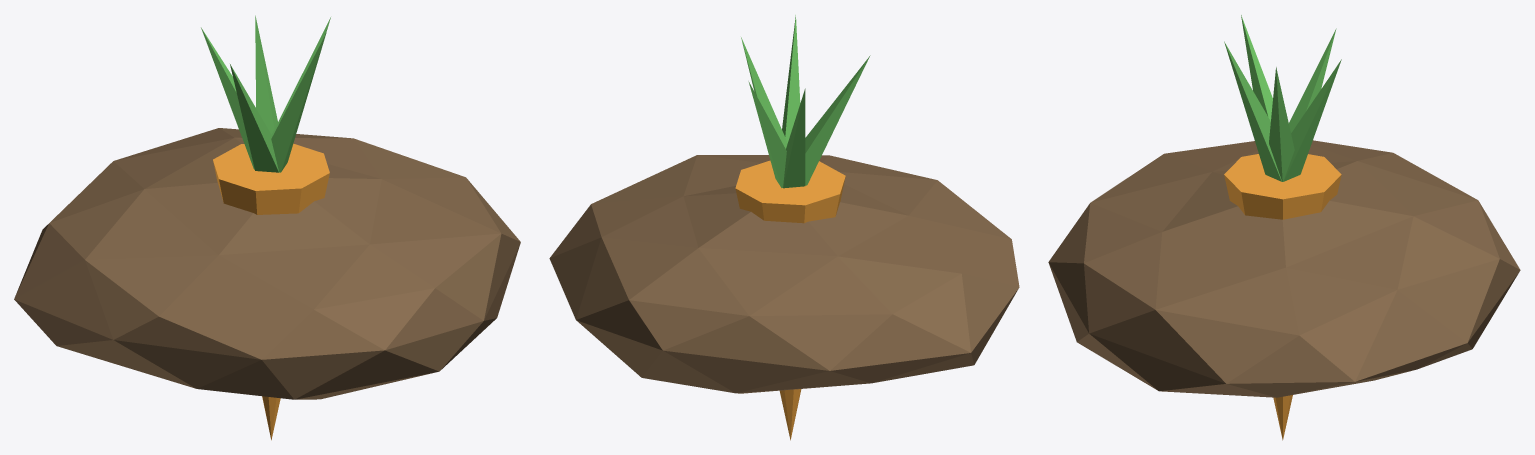
The model's file is carotte_3_mure.fbx.
3 views of the same model, side by side, from view 1: azimuth 30°, elevation 25°; view 2: azimuth 150°, elevation 25°; view 3: azimuth 270°, elevation 25° (orthographic). The views are drawn at different scales.
Visible parts, largest first — view 1: carotte_3_mure; view 2: carotte_3_mure; view 3: carotte_3_mure.
Part boxes in pixels (bbox=[...]): carotte_3_mure: bbox=[14, 15, 520, 440]; carotte_3_mure: bbox=[549, 15, 1019, 440]; carotte_3_mure: bbox=[1048, 15, 1520, 440].
Bounding box in the file's own units: 1.02 × 0.9274 × 0.9636.
